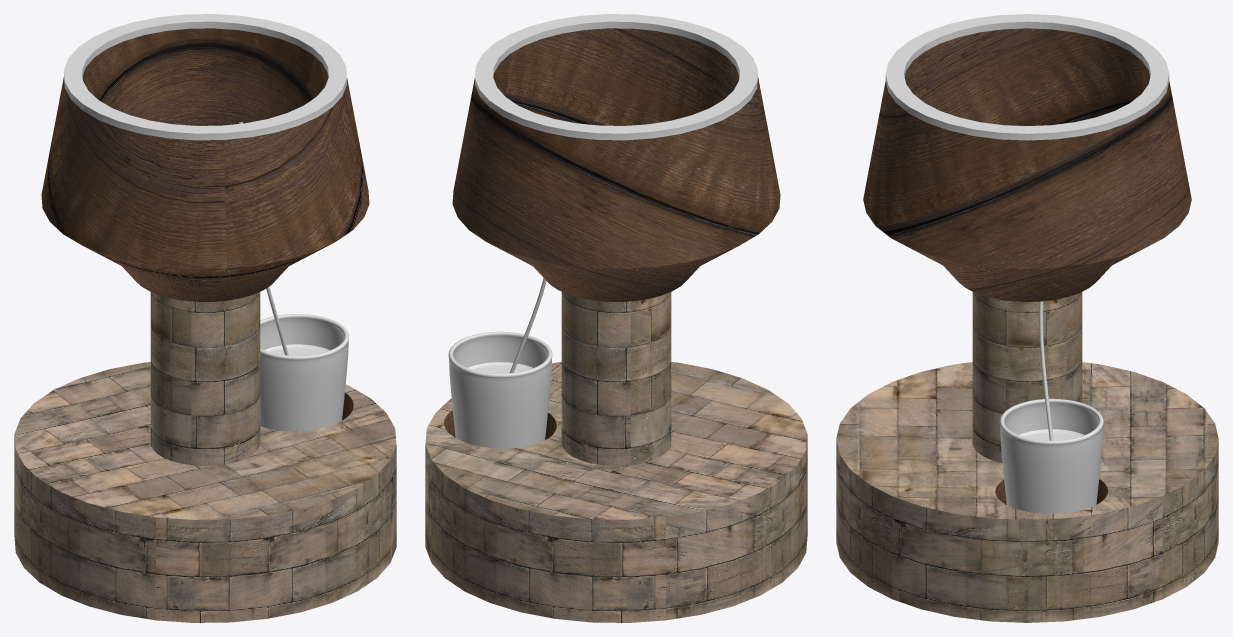
File: water mortar.fbx
3 renders of one model, left to right at view 1: azimuth 30°, elevation 25°; view 2: azimuth 150°, elevation 25°; view 3: azimuth 270°, elevation 25°, orthographic.
Parts seen in each view (by area): view 1: Cylinder, Cylinder.002, Glass full of water, Cylinder.001; view 2: Cylinder, Cylinder.002, Glass full of water, Cylinder.001; view 3: Cylinder, Cylinder.002, Glass full of water, BézierCurve, Cylinder.001.
Part boxes in pixels (x1,y1,x2,y2): Cylinder: (14,292,396,622); Cylinder.002: (41,14,369,301); Glass full of water: (260,314,348,431); Cylinder.001: (264,344,329,355); Cylinder: (425,292,807,622); Cylinder.002: (452,14,780,301); Glass full of water: (448,331,552,448); Cylinder.001: (468,362,532,373); Cylinder: (836,292,1218,622); Cylinder.002: (863,14,1191,301); Glass full of water: (999,398,1103,513); BézierCurve: (1039,301,1053,440); Cylinder.001: (1019,429,1084,440).
Bounding box in the file's own units: 393 × 531 × 393.
